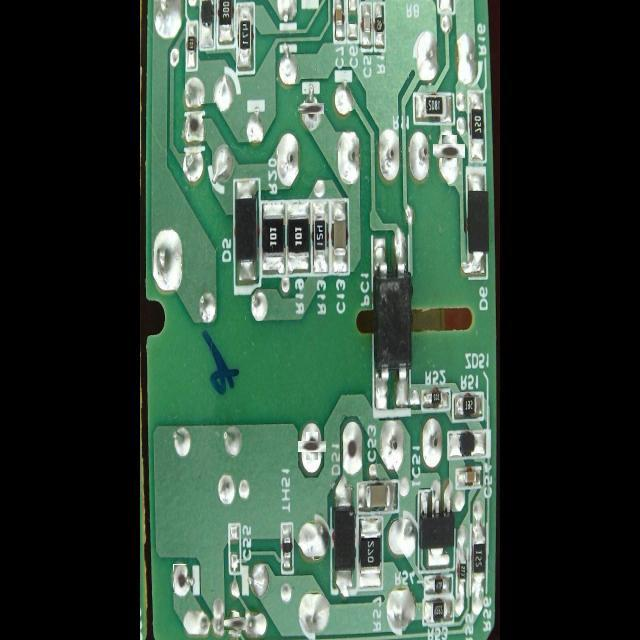damged: (438, 139, 461, 163), (187, 112, 202, 140), (302, 436, 322, 456), (173, 564, 187, 592), (346, 434, 359, 462), (302, 99, 321, 118), (226, 614, 244, 632)
